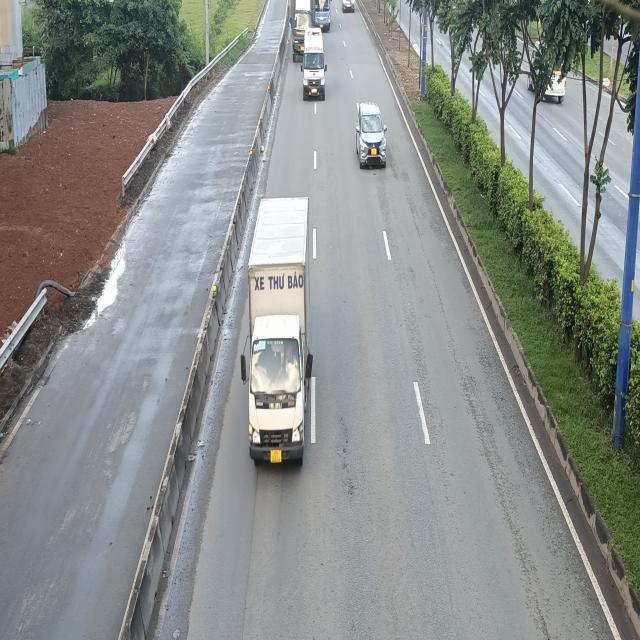car: (355, 102, 386, 168)
truck: (239, 199, 313, 472)
van: (301, 27, 327, 100)
